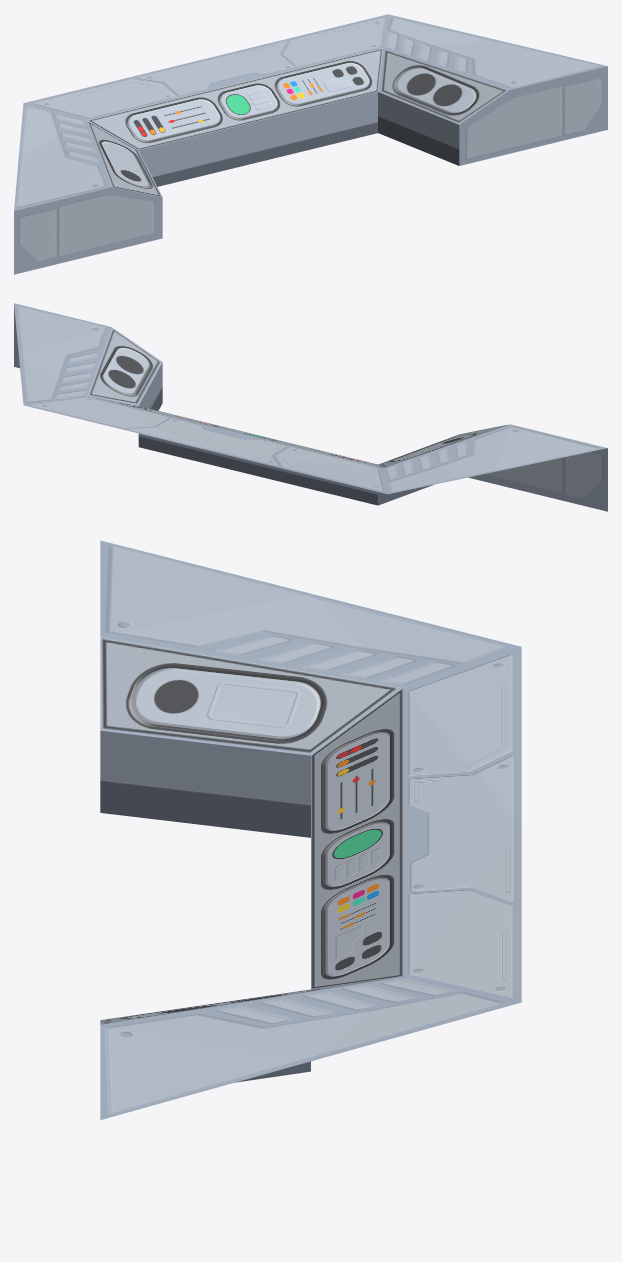
The model's file is Envi9.dae.
3 views of the same model, one above another, from view 1: azimuth 30°, elevation 25°; view 2: azimuth 150°, elevation 25°; view 3: azimuth 270°, elevation 25° (orthographic). The views are drawn at different scales.
Parts seen in each view (by area): view 1: Cube.146; view 2: Cube.146; view 3: Cube.146.
Boxes of the visible parts, <box> form: Cube.146: <box>14,14,607,274</box>; Cube.146: <box>14,303,607,511</box>; Cube.146: <box>100,540,521,1119</box>.
Size of the model in its own units: 9.79 by 3 by 1.05.
